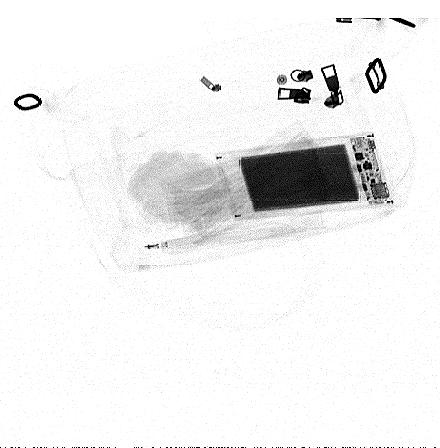Powerbank: (215, 131, 397, 222)
